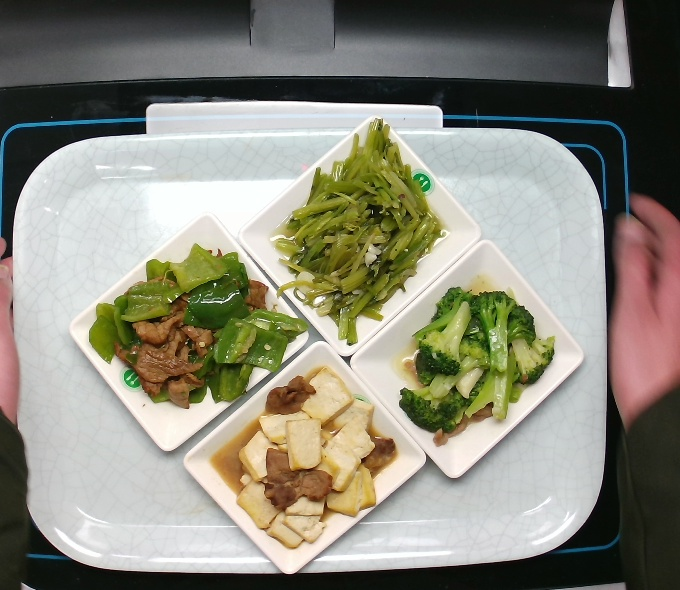wcq-DouFuRouPian: (213, 363, 412, 561)
wcq-QinCai: (271, 116, 439, 348)
wcq-QingJiaoChaoRou: (84, 244, 299, 406)
wcq-XiLanHua: (396, 283, 561, 442)
